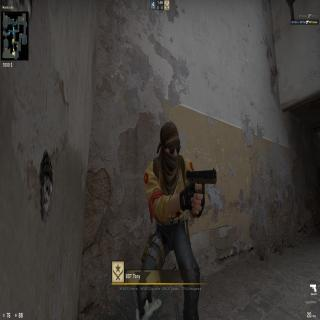T-Head: (156, 119, 182, 173)
